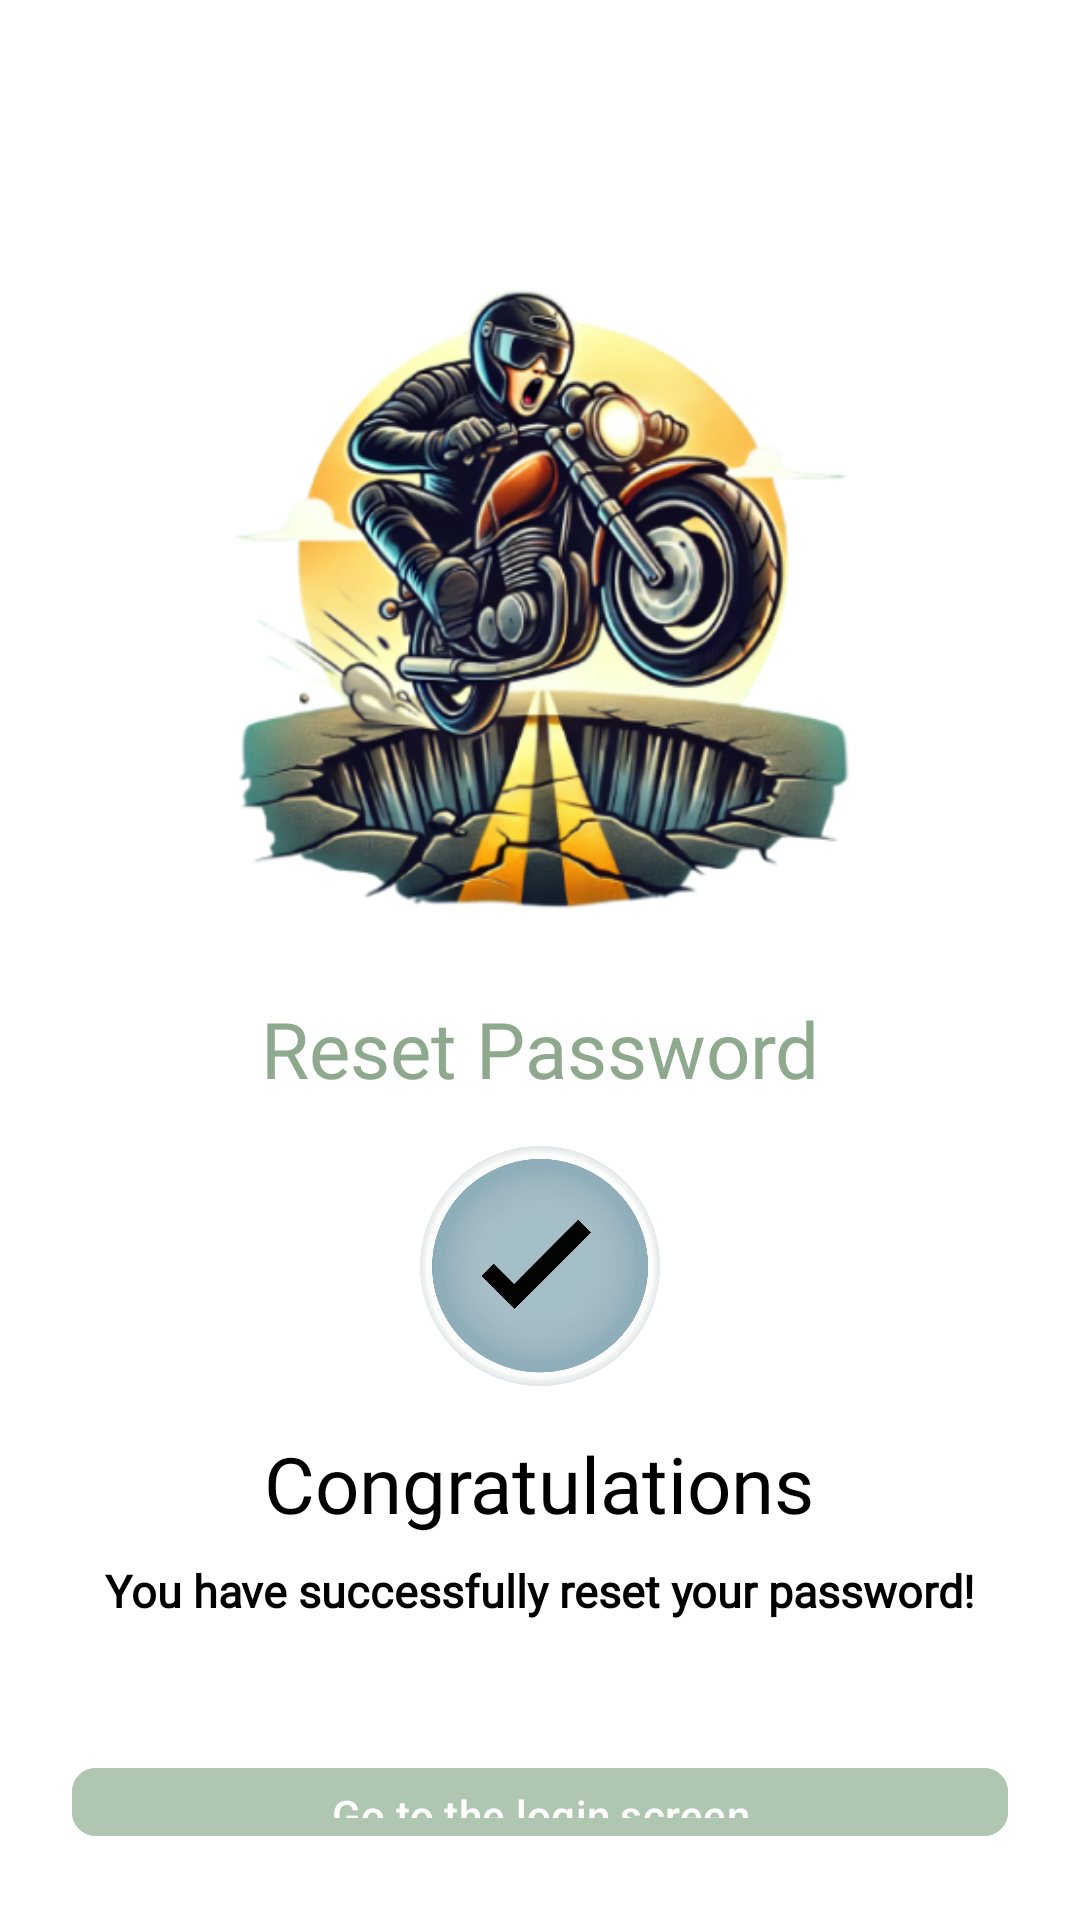

Point at icon controls on the screen. Image size 1080px x 1920px, points as (x=x, y=y).
tick: (x=540, y=1266)
